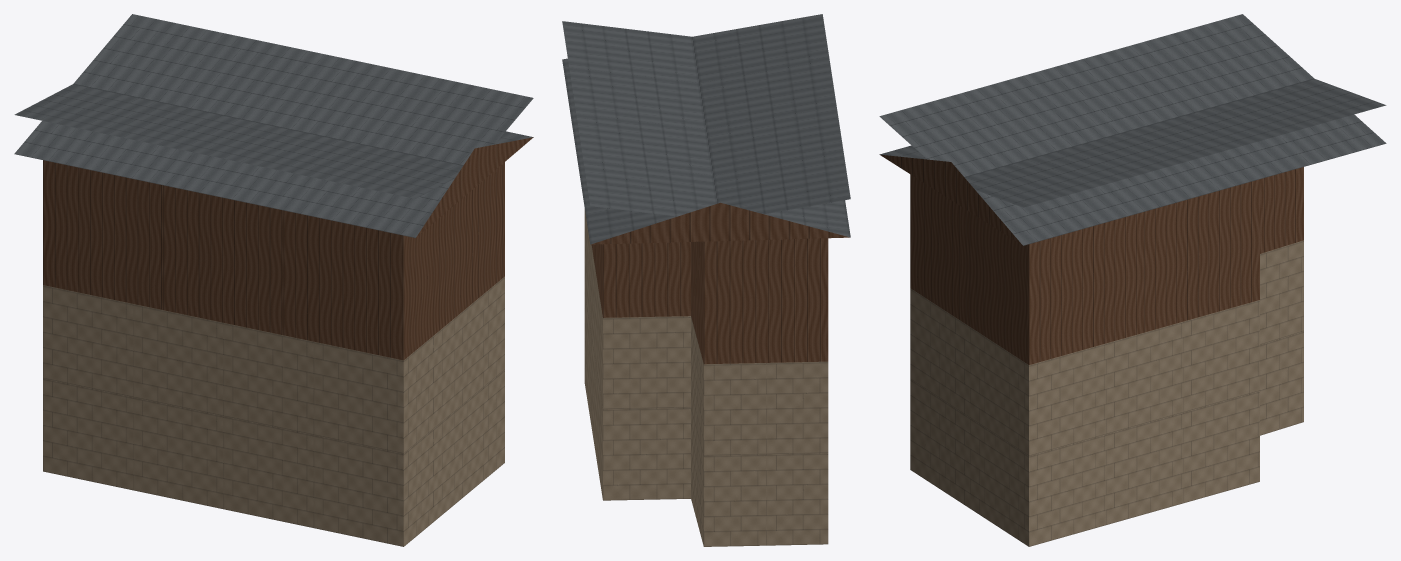
File: bld_c31_-24_537.gltf
The picture shows the model from 3 angles, left to right: view 1: azimuth 30°, elevation 25°; view 2: azimuth 150°, elevation 25°; view 3: azimuth 270°, elevation 25°; orthographic projection. The views are drawn at different scales.
Visible parts, largest first — view 1: bld_c31_-24_537; view 2: bld_c31_-24_537; view 3: bld_c31_-24_537.
Boxes of the visible parts, x1,y1,x2,y2 form: bld_c31_-24_537: (14, 14, 533, 546); bld_c31_-24_537: (562, 14, 850, 546); bld_c31_-24_537: (879, 14, 1386, 546).
Size of the model in its own units: 10.87 by 9.2 by 12.03.
Materials: 4 (4 with a texture image).
